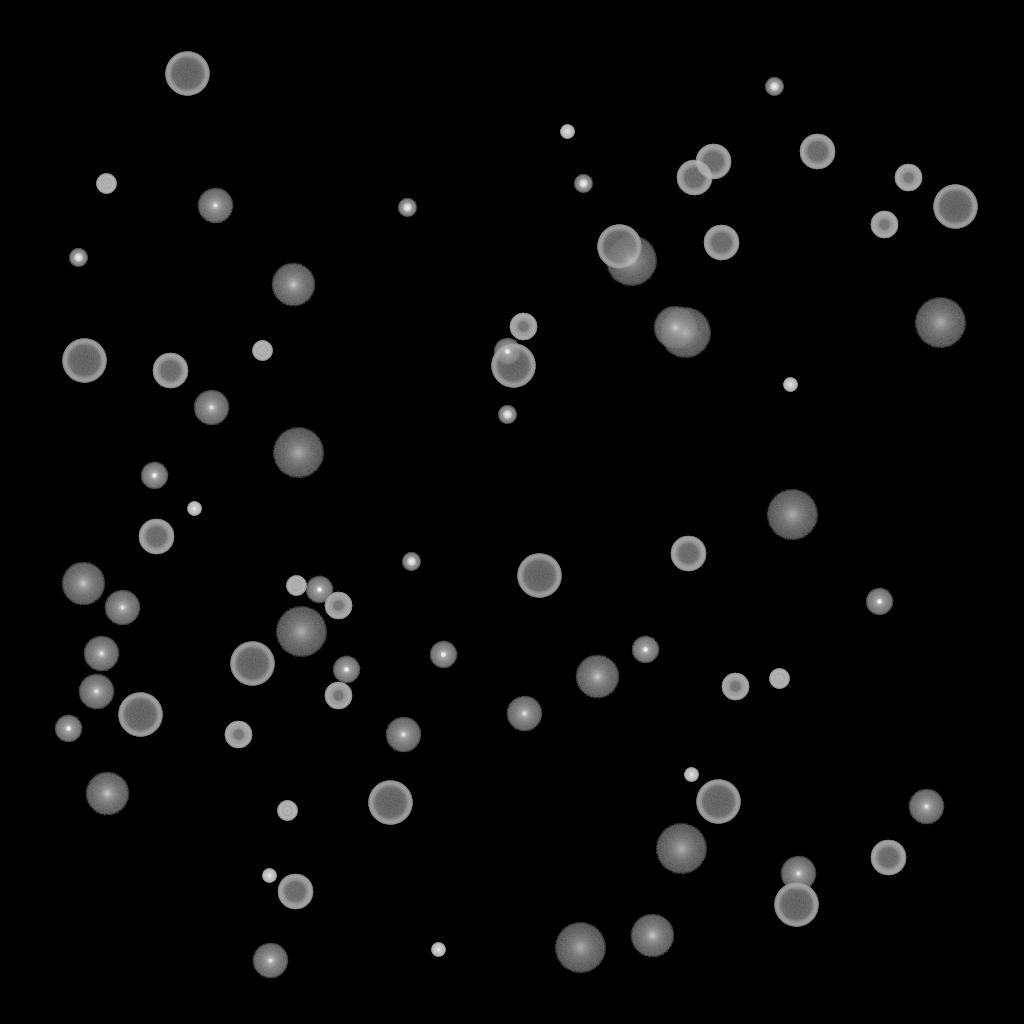depth:-10: (140, 462, 168, 490), (631, 636, 659, 664), (332, 656, 360, 684), (54, 715, 82, 743), (429, 641, 457, 669), (305, 576, 333, 604), (865, 588, 893, 616), (493, 338, 521, 366)
depth:-20: (498, 406, 516, 424), (402, 553, 420, 571), (574, 175, 592, 193), (69, 249, 87, 267), (398, 199, 416, 217), (765, 78, 783, 96)
depth:-30: (262, 869, 276, 883), (431, 943, 445, 957), (684, 768, 698, 782), (187, 502, 201, 516), (783, 378, 797, 392), (560, 125, 574, 139)
depth:-40: (769, 669, 789, 689), (96, 174, 116, 194), (252, 341, 272, 361), (277, 801, 297, 821), (286, 576, 306, 596)
depth:-50: (224, 721, 252, 749), (324, 592, 352, 620), (324, 682, 352, 710), (870, 211, 898, 239), (721, 673, 749, 701), (509, 313, 537, 341), (894, 164, 922, 192)
depth:-60: (152, 353, 188, 389), (670, 536, 706, 572), (676, 160, 712, 196), (277, 874, 313, 910), (799, 134, 835, 170), (138, 519, 174, 555), (870, 840, 906, 876), (703, 225, 739, 261), (695, 144, 731, 180)
depth:-70: (597, 225, 641, 269), (696, 780, 740, 824), (230, 642, 274, 686), (933, 185, 977, 229), (368, 781, 412, 825), (774, 883, 818, 927), (517, 554, 561, 598), (491, 344, 535, 388), (62, 339, 106, 383), (118, 693, 162, 737), (165, 52, 209, 96)
depth:0: (83, 636, 119, 672), (197, 188, 233, 224), (908, 789, 944, 825), (385, 717, 421, 753), (193, 390, 229, 426), (506, 696, 542, 732), (252, 943, 288, 979), (104, 590, 140, 626), (780, 856, 816, 892), (78, 674, 114, 710)
depth:10: (271, 263, 315, 307), (653, 306, 697, 350), (630, 914, 674, 958), (85, 772, 129, 816), (61, 562, 105, 606), (575, 655, 619, 699)
depth:20: (605, 236, 657, 286), (554, 923, 606, 973), (275, 607, 327, 657), (766, 490, 818, 540), (655, 824, 707, 874), (914, 298, 966, 348), (272, 428, 324, 478), (659, 308, 711, 358)
